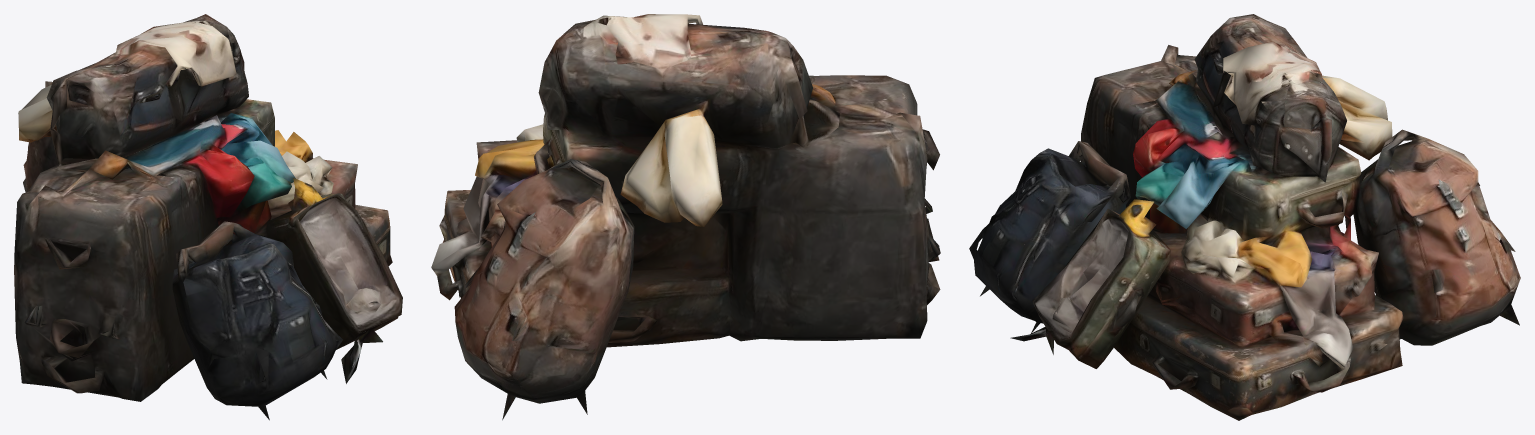
Rendered from ap_luggage.glb.
3 views of the same model, side by side, from view 1: azimuth 30°, elevation 25°; view 2: azimuth 150°, elevation 25°; view 3: azimuth 270°, elevation 25° (orthographic). The views are drawn at different scales.
Parts seen in each view (by area): view 1: tripo_node_da2c6db0-2196-47d0-8ca2-9fd937890a13; view 2: tripo_node_da2c6db0-2196-47d0-8ca2-9fd937890a13; view 3: tripo_node_da2c6db0-2196-47d0-8ca2-9fd937890a13.
Part boxes in pixels (box(x1,y1,x2,y2)): tripo_node_da2c6db0-2196-47d0-8ca2-9fd937890a13: box(14, 14, 402, 420); tripo_node_da2c6db0-2196-47d0-8ca2-9fd937890a13: box(431, 14, 940, 420); tripo_node_da2c6db0-2196-47d0-8ca2-9fd937890a13: box(969, 14, 1520, 420).
Size of the model in its own units: 0.835 by 0.5423 by 1.
1 material, 1 textured.
